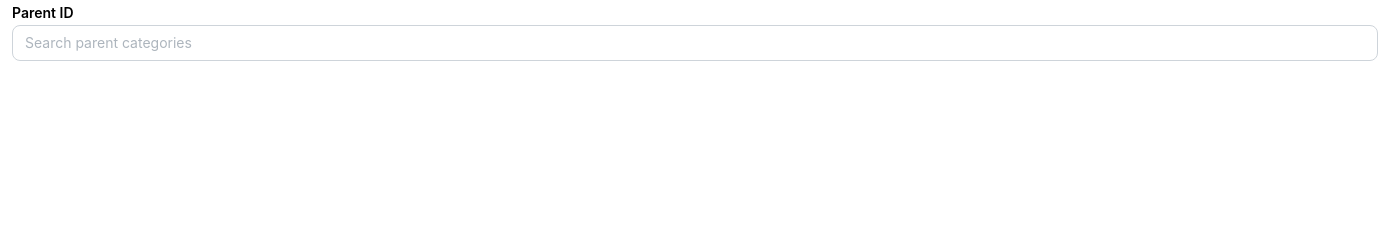
Test: CategoryParentPicker › selects root and selectable remote options
The width and height of the screenshot is (1390, 230).
Step 1. Click the dropdown labelled "Parent ID" → (695, 43), box 12,25 -> 1378,61
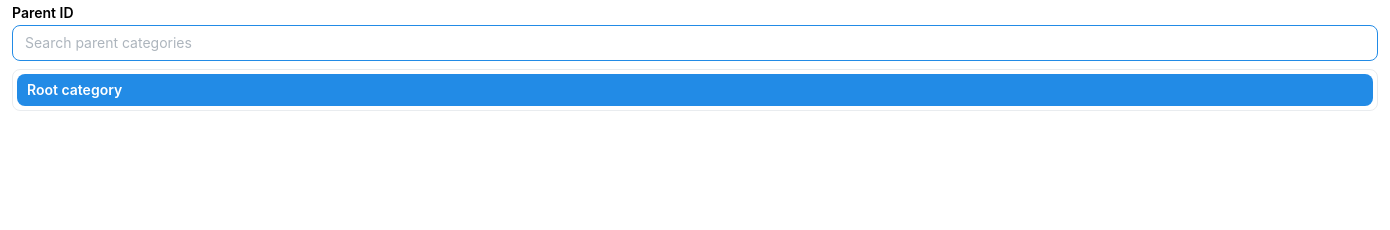
Step 2. Click the option "Root category" → (75, 89), box 17,74 -> 1373,106
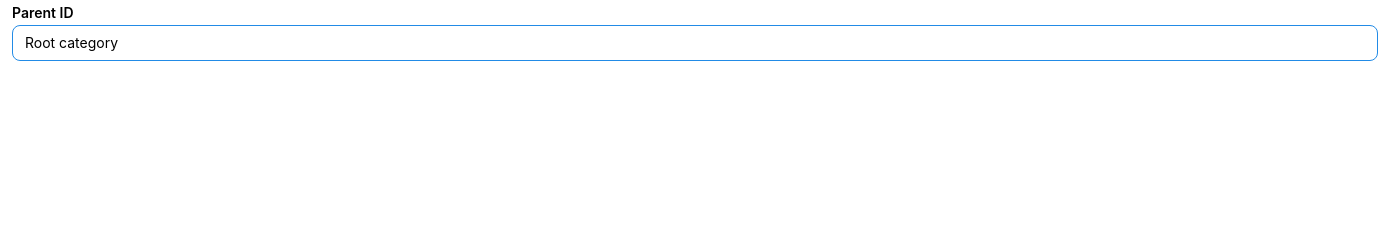
Expected: the dropdown labelled "Parent ID" holds "Root category"
Step 3. Click the dropdown labelled "Parent ID" → (695, 43), box 12,25 -> 1378,61
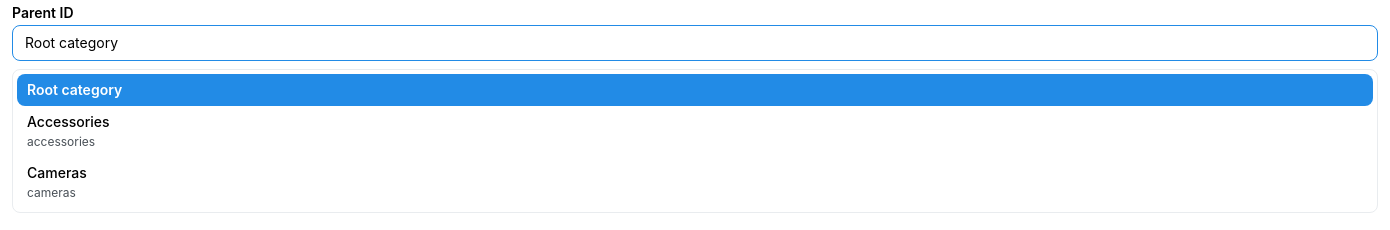
Step 4. Click the option "Cameras cameras" → (57, 182), box 27,164 -> 87,200
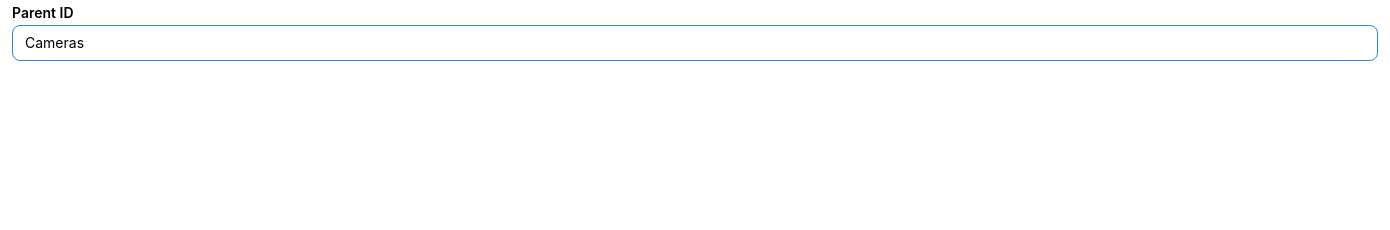
Expected: the dropdown labelled "Parent ID" holds "Cameras", 12,25 -> 1378,61
